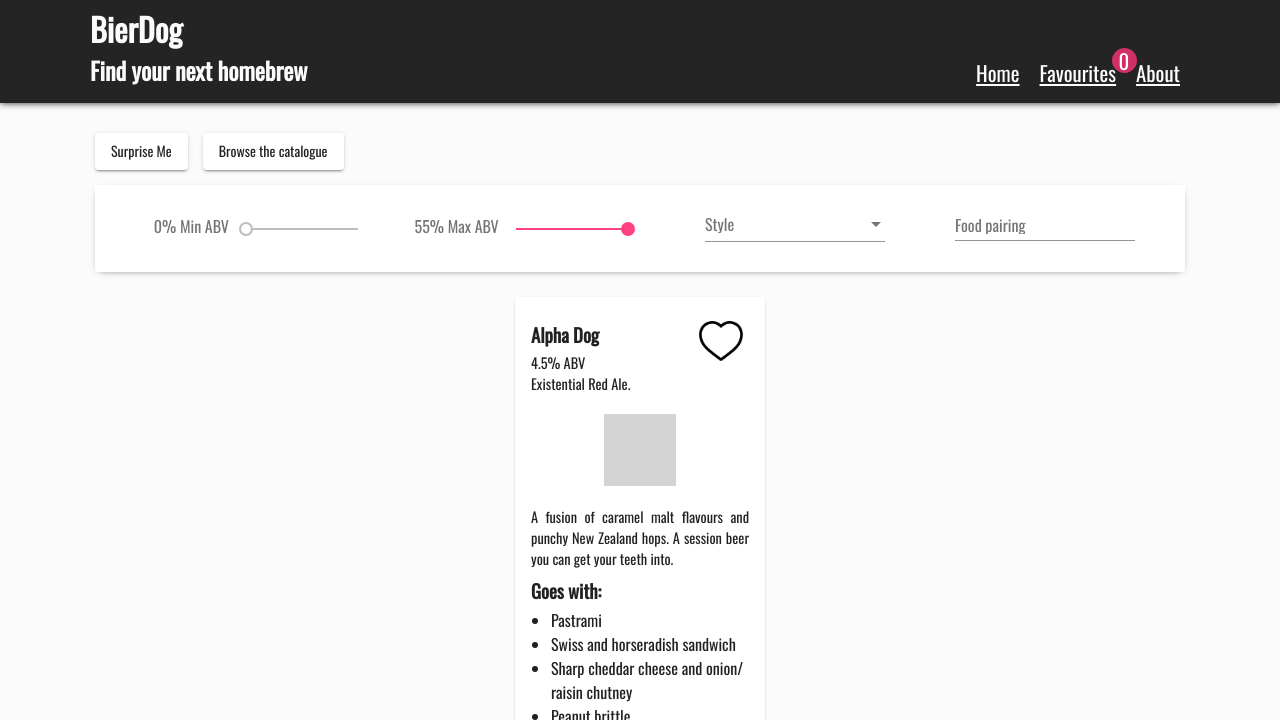
Test: the search feature › should search with food input
Type "pizza" into the field with test id "food".
click(1045, 225); type("pizza")  # box [955,216,1135,234]
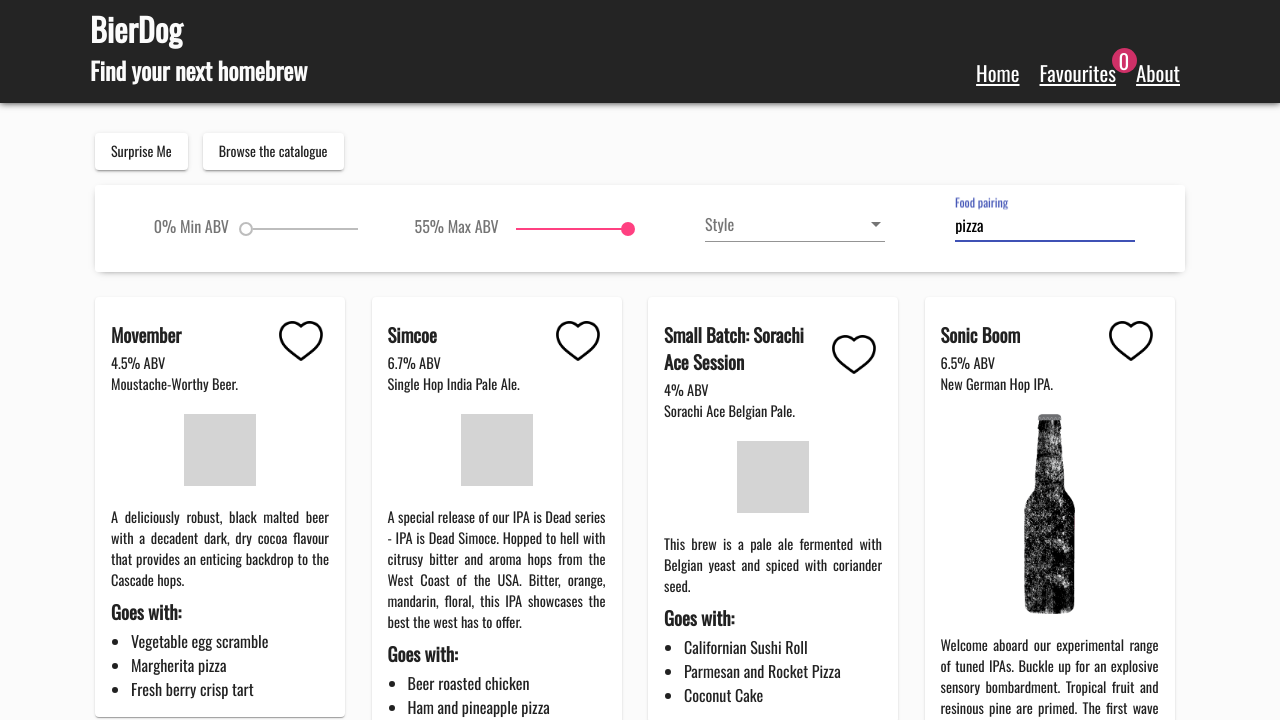
Check: the number of elements with test id "bier-card" is 7
